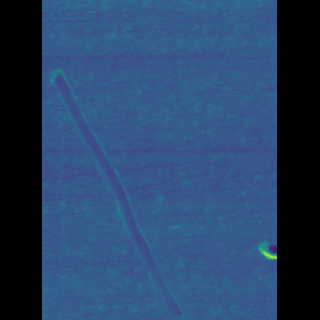Loch: (77, 65, 178, 319), (228, 239, 246, 264)
